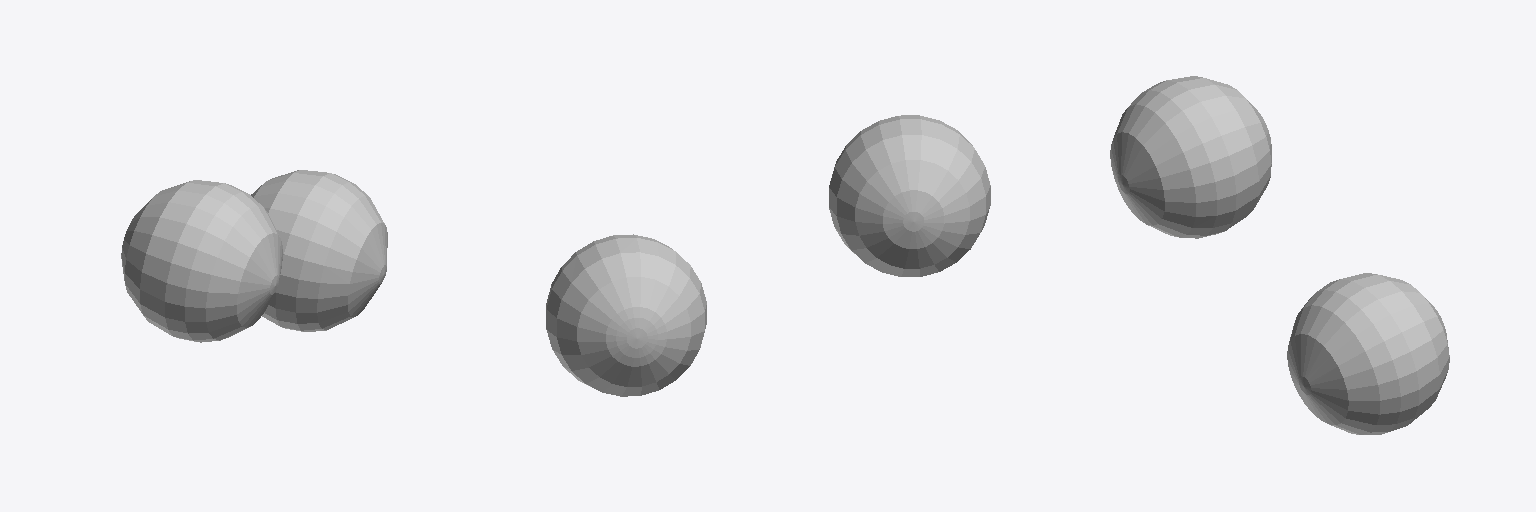
The model's file is eyes.obj.
3 renders of one model, left to right at view 1: azimuth 30°, elevation 25°; view 2: azimuth 150°, elevation 25°; view 3: azimuth 270°, elevation 25°, orthographic.
Size of the model in its own units: 1.48 by 1.05 by 1.3.